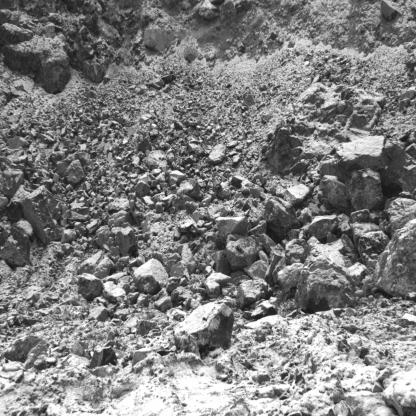stone: (294, 243, 358, 311), (374, 218, 416, 299), (172, 301, 235, 351), (23, 185, 62, 242), (347, 168, 383, 212), (265, 198, 300, 240), (131, 257, 168, 293), (226, 233, 260, 270), (0, 226, 31, 266), (319, 176, 349, 214), (215, 216, 250, 248), (383, 198, 416, 231), (357, 232, 388, 267), (237, 280, 273, 308), (79, 250, 114, 278), (0, 167, 26, 200), (306, 214, 340, 239), (276, 262, 302, 293), (112, 226, 137, 256), (204, 273, 233, 297), (176, 177, 204, 201), (87, 347, 119, 368), (247, 251, 269, 280), (283, 182, 310, 205), (64, 158, 85, 186), (78, 273, 102, 297), (284, 240, 307, 265), (103, 281, 127, 301), (107, 210, 132, 227), (348, 262, 367, 284), (168, 169, 187, 188), (209, 142, 226, 163), (15, 218, 34, 236), (349, 208, 369, 223), (0, 192, 11, 219)
